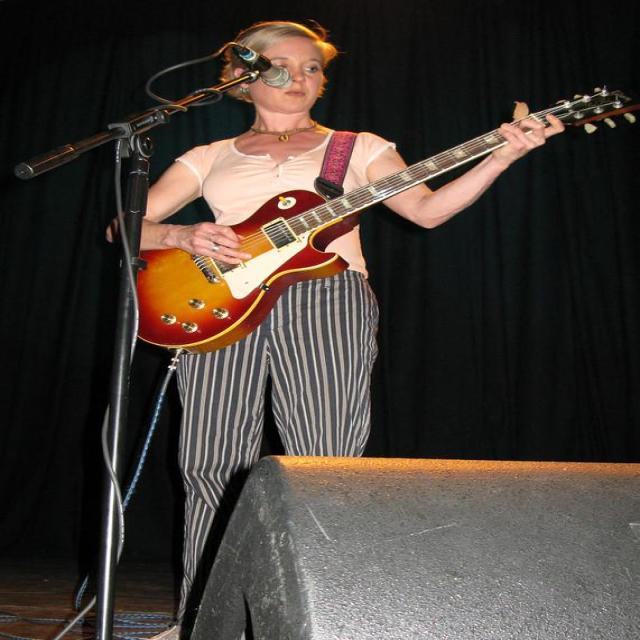guitar: (138, 130, 506, 352)
